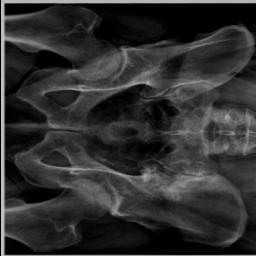cancer: (125, 170, 213, 197)
